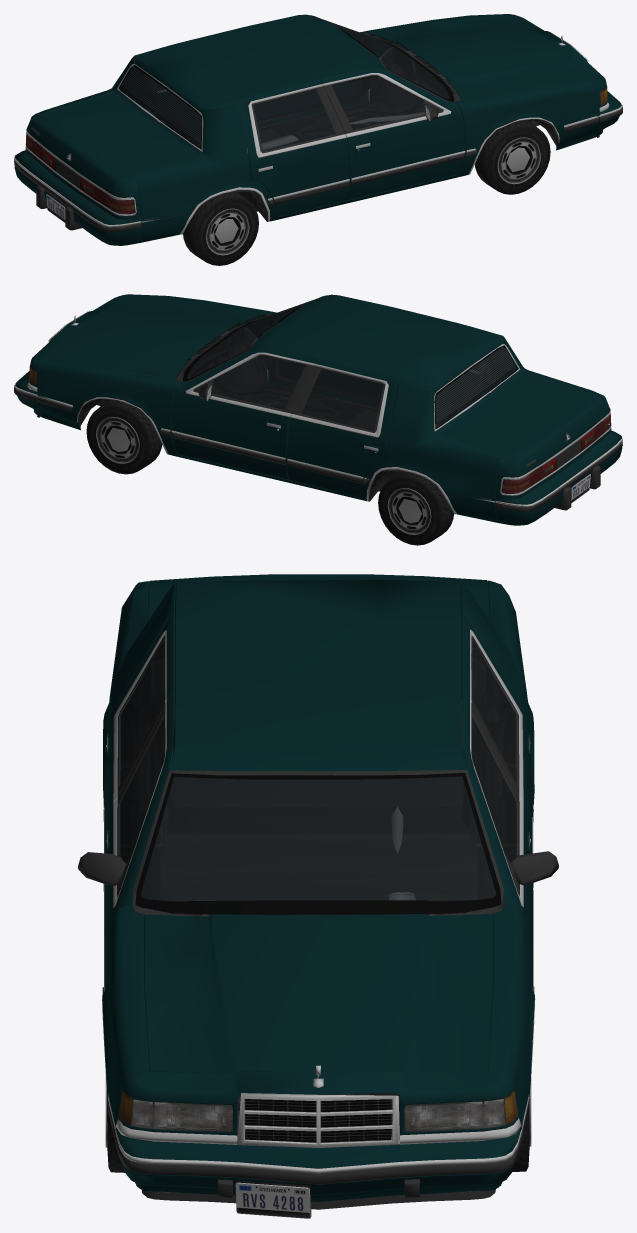
The model's file is riverside_lod.gltf.
3 views of the same model, one above another, from view 1: azimuth 30°, elevation 25°; view 2: azimuth 150°, elevation 25°; view 3: azimuth 270°, elevation 25° (orthographic). The views are drawn at different scales.
Parts seen in each view (by area): view 1: Riverside88_Body_Riverside88_Bodymat_0, Riverside88_bottom_UCB_BOTTOM_0, Riverside88_Hood_Riverside88_Bodymat_0, Riverside88_Trunk_door_Riverside88_Bodymat_0, Riverside88_WheelStock_FR_RB1c_Tire_1k_0, Riverside88_WheelStock_RR_RB1c_Tire_1k_0, Riverside88_Body_Glass_UCB_Lights_and_Glass_Transperent_0, Riverside88_Glass_Passenger_UCB_Lights_and_Glass_Transperent, Riverside88_Bumper_rear_Riverside88_Bodymat_0, Riverside88_Rear_window_UCB_Lights_and_Glass_Transperent_0, Riverside88_Windshield_UCB_Lights_and_Glass_Transperent_0, Riverside88_Bumper_rear_inner_UCB_BOTTOM_0 (+2 smaller); view 2: Riverside88_Body_Riverside88_Bodymat_0, Riverside88_bottom_UCB_BOTTOM_0, Riverside88_Hood_Riverside88_Bodymat_0, Riverside88_Trunk_door_Riverside88_Bodymat_0, Riverside88_WheelStock_FL_RB1c_Tire_1k_0, Riverside88_WheelStock_FR_RB1c_Tire_1k_0, Riverside88_Body_Glass_UCB_Lights_and_Glass_Transperent_0, Riverside88_Glass_Driver_UCB_Lights_and_Glass_Transperent_0, Riverside88_Rear_window_UCB_Lights_and_Glass_Transperent_0, Riverside88_Bumper_rear_Riverside88_Bodymat_0, Riverside88_Windshield_UCB_Lights_and_Glass_Transperent_0, Riverside88_Bumper_rear_inner_UCB_BOTTOM_0 (+2 smaller); view 3: Riverside88_Body_Riverside88_Bodymat_0, Riverside88_bottom_UCB_BOTTOM_0, Riverside88_Hood_Riverside88_Bodymat_0, Riverside88_Windshield_UCB_Lights_and_Glass_Transperent_0, Riverside88_Bumper_Front_Riverside88_Bodymat_0, Riverside88_Bumper_Front_inner_UCB_BOTTOM_0, Riverside88_Headlights_Glass_UCB_Lights_and_Glass_Transperen, Riverside88_Body_Glass_UCB_Lights_and_Glass_Transperent_0, Riverside88_Headlights_UCB_Lights_and_Glass_0, Riverside88_Trunk_door_Riverside88_Bodymat_0, Riverside88_Glass_Driver_UCB_Lights_and_Glass_Transperent_0, Riverside88_Glass_Passenger_UCB_Lights_and_Glass_Transperent (+2 smaller).
Boxes of the visible parts, bbox=[...] form: Riverside88_Body_Riverside88_Bodymat_0: bbox=[25, 14, 607, 242]; Riverside88_bottom_UCB_BOTTOM_0: bbox=[25, 16, 609, 234]; Riverside88_Hood_Riverside88_Bodymat_0: bbox=[373, 16, 591, 98]; Riverside88_Trunk_door_Riverside88_Bodymat_0: bbox=[28, 89, 202, 194]; Riverside88_WheelStock_FR_RB1c_Tire_1k_0: bbox=[475, 120, 550, 194]; Riverside88_WheelStock_RR_RB1c_Tire_1k_0: bbox=[183, 192, 258, 265]; Riverside88_Body_Glass_UCB_Lights_and_Glass_Transperent_0: bbox=[253, 89, 335, 151]; Riverside88_Glass_Passenger_UCB_Lights_and_Glass_Transperent: bbox=[332, 76, 425, 130]; Riverside88_Bumper_rear_Riverside88_Bodymat_0: bbox=[14, 150, 141, 245]; Riverside88_Rear_window_UCB_Lights_and_Glass_Transperent_0: bbox=[120, 66, 201, 147]; Riverside88_Windshield_UCB_Lights_and_Glass_Transperent_0: bbox=[320, 18, 449, 99]; Riverside88_Bumper_rear_inner_UCB_BOTTOM_0: bbox=[14, 155, 141, 240]; Riverside88_Body_Riverside88_Bodymat_0: bbox=[29, 294, 611, 522]; Riverside88_bottom_UCB_BOTTOM_0: bbox=[27, 296, 611, 514]; Riverside88_Hood_Riverside88_Bodymat_0: bbox=[45, 296, 263, 378]; Riverside88_Trunk_door_Riverside88_Bodymat_0: bbox=[435, 370, 608, 474]; Riverside88_WheelStock_FL_RB1c_Tire_1k_0: bbox=[86, 399, 162, 474]; Riverside88_WheelStock_FR_RB1c_Tire_1k_0: bbox=[378, 471, 453, 545]; Riverside88_Body_Glass_UCB_Lights_and_Glass_Transperent_0: bbox=[301, 369, 383, 431]; Riverside88_Glass_Driver_UCB_Lights_and_Glass_Transperent_0: bbox=[211, 356, 305, 409]; Riverside88_Rear_window_UCB_Lights_and_Glass_Transperent_0: bbox=[435, 347, 517, 427]; Riverside88_Bumper_rear_Riverside88_Bodymat_0: bbox=[495, 430, 622, 525]; Riverside88_Windshield_UCB_Lights_and_Glass_Transperent_0: bbox=[187, 299, 314, 378]; Riverside88_Bumper_rear_inner_UCB_BOTTOM_0: bbox=[495, 436, 622, 519]; Riverside88_Body_Riverside88_Bodymat_0: bbox=[102, 579, 534, 1135]; Riverside88_bottom_UCB_BOTTOM_0: bbox=[78, 618, 558, 1147]; Riverside88_Hood_Riverside88_Bodymat_0: bbox=[144, 914, 492, 1073]; Riverside88_Windshield_UCB_Lights_and_Glass_Transperent_0: bbox=[140, 776, 496, 901]; Riverside88_Bumper_Front_Riverside88_Bodymat_0: bbox=[116, 1128, 521, 1201]; Riverside88_Bumper_Front_inner_UCB_BOTTOM_0: bbox=[115, 1130, 521, 1216]; Riverside88_Headlights_Glass_UCB_Lights_and_Glass_Transperen: bbox=[119, 1090, 517, 1132]; Riverside88_Body_Glass_UCB_Lights_and_Glass_Transperent_0: bbox=[120, 641, 516, 783]; Riverside88_Headlights_UCB_Lights_and_Glass_0: bbox=[132, 1099, 505, 1131]; Riverside88_Trunk_door_Riverside88_Bodymat_0: bbox=[147, 574, 489, 646]; Riverside88_Glass_Driver_UCB_Lights_and_Glass_Transperent_0: bbox=[472, 717, 516, 862]; Riverside88_Glass_Passenger_UCB_Lights_and_Glass_Transperent: bbox=[120, 717, 164, 863].
Size of the model in its own units: 4.91 by 1.32 by 1.91.
Materials: 6 (5 with a texture image).
